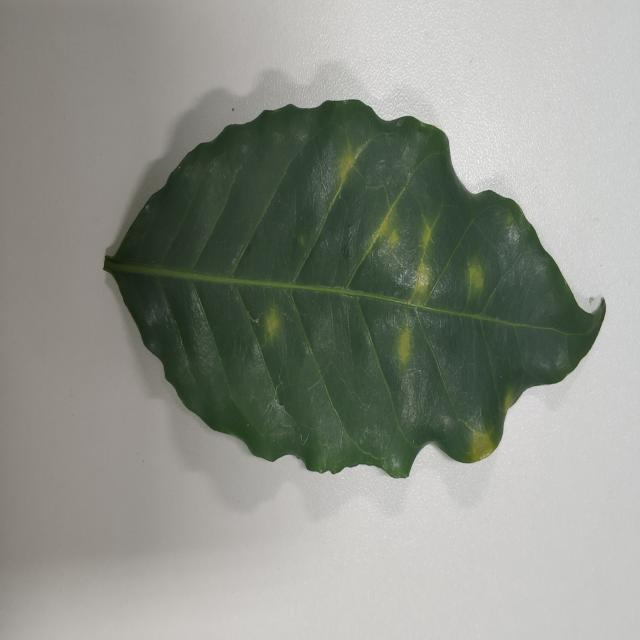Enfermedad-Roya: (102, 99, 608, 482)
